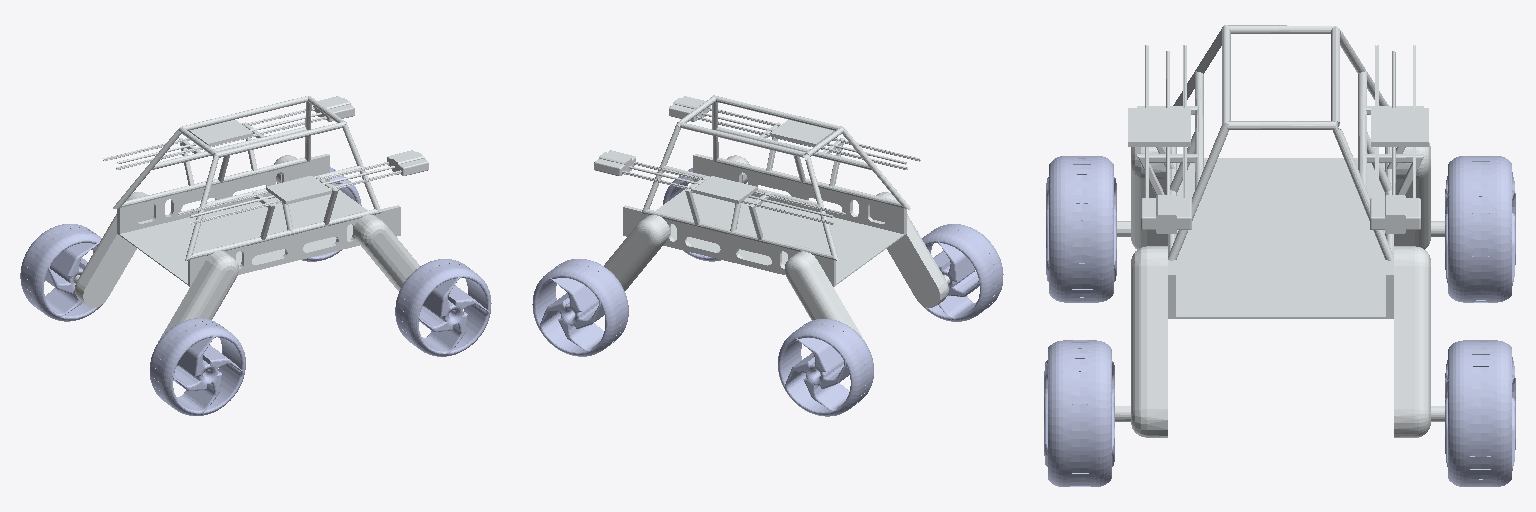
robot.urdf — farmbot_urdf:
<?xml version="1.0" encoding="utf-8"?>
<!-- This URDF was automatically created by SolidWorks to URDF Exporter! Originally created by [author] ([email redacted]) 
     Commit Version: 1.6.0-4-g7f85cfe  Build Version: 1.6.7995.38578
     For more information, please see http://wiki.ros.org/sw_urdf_exporter -->
<robot
  name="farmbot_urdf">
  <link
    name="base_link">
    <inertial>
      <origin
        xyz="0.0397351421714647 -0.00523316717396405 -0.0506956721866623"
        rpy="0 0 0" />
      <mass
        value="765.082786359246" />
      <inertia
        ixx="123.363633235284"
        ixy="-4.05127262052681"
        ixz="-1.81192358757159"
        iyy="347.001423957529"
        iyz="-19.0742943855652"
        izz="396.269786227211" />
    </inertial>
    <visual>
      <origin
        xyz="0 0 0"
        rpy="0 0 0" />
      <geometry>
        <mesh
          filename="package://farmbot_urdf/meshes/base_link.STL" />
      </geometry>
      <material
        name="">
        <color
          rgba="0.898039215686275 0.917647058823529 0.929411764705882 1" />
      </material>
    </visual>
    <collision>
      <origin
        xyz="0 0 0"
        rpy="0 0 0" />
      <geometry>
        <mesh
          filename="package://farmbot_urdf/meshes/base_link.STL" />
      </geometry>
    </collision>
  </link>
  <link
    name="front_wheel_right">
    <inertial>
      <origin
        xyz="-4.09994216354903E-09 0.0273313494100043 2.05165684441511E-08"
        rpy="0 0 0" />
      <mass
        value="75.2974306084417" />
      <inertia
        ixx="3.97273337439721"
        ixy="-8.12301075272052E-10"
        ixz="-2.38621948070756E-07"
        iyy="6.52717930000384"
        iyz="2.49168887186407E-08"
        izz="3.97273354189052" />
    </inertial>
    <visual>
      <origin
        xyz="0 0 0"
        rpy="0 0 0" />
      <geometry>
        <mesh
          filename="package://farmbot_urdf/meshes/front_wheel_right.STL" />
      </geometry>
      <material
        name="">
        <color
          rgba="0.792156862745098 0.819607843137255 0.933333333333333 1" />
      </material>
    </visual>
    <collision>
      <origin
        xyz="0 0 0"
        rpy="0 0 0" />
      <geometry>
        <mesh
          filename="package://farmbot_urdf/meshes/front_wheel_right.STL" />
      </geometry>
    </collision>
  </link>
  <joint
    name="front_wheel_right_joint"
    type="revolute">
    <origin
      xyz="1.1332 -1.1 -0.50637"
      rpy="0 0 0" />
    <parent
      link="base_link" />
    <child
      link="front_wheel_right" />
    <axis
      xyz="0 -1 0" />
    <limit
      lower="0"
      upper="0"
      effort="0"
      velocity="0" />
  </joint>
  <link
    name="front_wheel_left">
    <inertial>
      <origin
        xyz="4.07161948601242E-09 -0.0373559005899962 2.05222081550716E-08"
        rpy="0 0 0" />
      <mass
        value="75.297430608442" />
      <inertia
        ixx="3.97273323010825"
        ixy="8.79404208748348E-09"
        ixz="-1.09332929598623E-07"
        iyy="6.52717930000387"
        iyz="2.33275834417638E-08"
        izz="3.97273368617951" />
    </inertial>
    <visual>
      <origin
        xyz="0 0 0"
        rpy="0 0 0" />
      <geometry>
        <mesh
          filename="package://farmbot_urdf/meshes/front_wheel_left.STL" />
      </geometry>
      <material
        name="">
        <color
          rgba="0.792156862745098 0.819607843137255 0.933333333333333 1" />
      </material>
    </visual>
    <collision>
      <origin
        xyz="0 0 0"
        rpy="0 0 0" />
      <geometry>
        <mesh
          filename="package://farmbot_urdf/meshes/front_wheel_left.STL" />
      </geometry>
    </collision>
  </link>
  <joint
    name="front_wheel_left_joint"
    type="revolute">
    <origin
      xyz="1.1332 1.1 -0.50637"
      rpy="0 0 0" />
    <parent
      link="base_link" />
    <child
      link="front_wheel_left" />
    <axis
      xyz="0 1 0" />
    <limit
      lower="0"
      upper="0"
      effort="0"
      velocity="0" />
  </joint>
  <link
    name="rear_wheel_right">
    <inertial>
      <origin
        xyz="-3.86647991401645E-09 0.037331349410004 2.05618442272737E-08"
        rpy="0 0 0" />
      <mass
        value="75.2974306084417" />
      <inertia
        ixx="3.97273336899472"
        ixy="-5.29037529963882E-10"
        ixz="-2.36656657853109E-07"
        iyy="6.52717930000384"
        iyz="2.49245118992102E-08"
        izz="3.97273354729302" />
    </inertial>
    <visual>
      <origin
        xyz="0 0 0"
        rpy="0 0 0" />
      <geometry>
        <mesh
          filename="package://farmbot_urdf/meshes/rear_wheel_right.STL" />
      </geometry>
      <material
        name="">
        <color
          rgba="0.792156862745098 0.819607843137255 0.933333333333333 1" />
      </material>
    </visual>
    <collision>
      <origin
        xyz="0 0 0"
        rpy="0 0 0" />
      <geometry>
        <mesh
          filename="package://farmbot_urdf/meshes/rear_wheel_right.STL" />
      </geometry>
    </collision>
  </link>
  <joint
    name="rear_wheel_right_joint"
    type="revolute">
    <origin
      xyz="-1.1937 -1.1 -0.50637"
      rpy="0 0 0" />
    <parent
      link="base_link" />
    <child
      link="rear_wheel_right" />
    <axis
      xyz="0 -1 0" />
    <limit
      lower="0"
      upper="0"
      effort="0"
      velocity="0" />
  </joint>
  <link
    name="rear_wheel_left">
    <inertial>
      <origin
        xyz="-0.0016753876990174 -0.0373559005899956 -0.000576889073542142"
        rpy="0 0 0" />
      <mass
        value="75.2974306084418" />
      <inertia
        ixx="3.97273323010823"
        ixy="8.79404131777284E-09"
        ixz="-1.09332927728706E-07"
        iyy="6.52717930000384"
        iyz="2.33275816567816E-08"
        izz="3.9727336861795" />
    </inertial>
    <visual>
      <origin
        xyz="0 0 0"
        rpy="0 0 0" />
      <geometry>
        <mesh
          filename="package://farmbot_urdf/meshes/rear_wheel_left.STL" />
      </geometry>
      <material
        name="">
        <color
          rgba="0.792156862745098 0.819607843137255 0.933333333333333 1" />
      </material>
    </visual>
    <collision>
      <origin
        xyz="0 0 0"
        rpy="0 0 0" />
      <geometry>
        <mesh
          filename="package://farmbot_urdf/meshes/rear_wheel_left.STL" />
      </geometry>
    </collision>
  </link>
  <joint
    name="rear_wheel_left_joint"
    type="revolute">
    <origin
      xyz="-1.192 1.1 -0.50579"
      rpy="0 0 0" />
    <parent
      link="base_link" />
    <child
      link="rear_wheel_left" />
    <axis
      xyz="0 1 0" />
    <limit
      lower="0"
      upper="0"
      effort="0"
      velocity="0" />
  </joint>
</robot>

--- Facts derived from the render (not from the file) ---
Views: 3 orthographic renders of the robot side by side, from view 1: azimuth 30°, elevation 25°; view 2: azimuth 150°, elevation 25°; view 3: azimuth 270°, elevation 25°.
Robot: farmbot_urdf — 5 links, 4 joints (4 revolute); root link base_link; default pose: every joint at zero.
Links seen in each view (by area): view 1: base_link, rear_wheel_right, front_wheel_right, rear_wheel_left; view 2: base_link, front_wheel_left, rear_wheel_left, rear_wheel_right; view 3: base_link, rear_wheel_right, front_wheel_right, front_wheel_left, rear_wheel_left.
Boxes of the visible links, x1,y1,x2,y2 form: base_link: [74, 96, 428, 365]; rear_wheel_right: [150, 318, 245, 415]; front_wheel_right: [395, 259, 491, 356]; rear_wheel_left: [20, 224, 102, 321]; base_link: [594, 95, 949, 342]; front_wheel_left: [532, 259, 628, 356]; rear_wheel_left: [778, 319, 873, 416]; rear_wheel_right: [922, 224, 1003, 321]; base_link: [1115, 25, 1444, 437]; rear_wheel_right: [1046, 156, 1116, 302]; front_wheel_right: [1044, 340, 1114, 486]; front_wheel_left: [1445, 340, 1515, 486]; rear_wheel_left: [1445, 156, 1515, 302].
Size in the robot's own frame: 3.11 by 2.51 by 1.88 metres.
Meshes: 5 distinct files referenced, 5 mesh visuals loaded (5 binary STL).